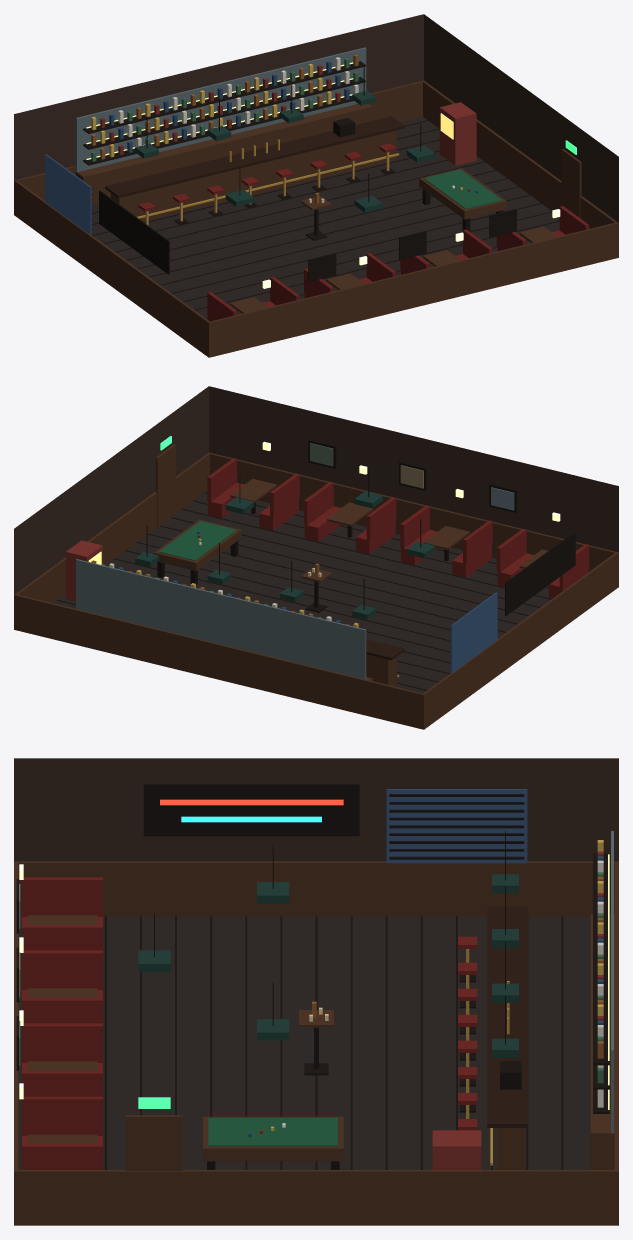
The model's file is set_bar.glb.
3 renders of one model, top to bottom at view 1: azimuth 30°, elevation 25°; view 2: azimuth 150°, elevation 25°; view 3: azimuth 270°, elevation 25°, orthographic. The views are drawn at different scales.
Visible parts, largest first — view 1: shell, wains.001, backpanel, wains.003, bar_front, backbar, wains.002, bar_top, neon_back, win, wains, juke (+20 smaller); view 2: shell, wains, backpanel, wains.003, wains.001, wains.002, neon_back, win, pool_felt, door, pool_body, juke (+22 smaller); view 3: shell, wains.002, wains.003, neon_back, win, bar_top, pool_felt, door, booth_back_a, booth_back_a.001, booth_back_a.002, booth_back_a.003 (+28 smaller).
Boxes of the visible parts, x1,y1,x2,y2 form: shell: (14,14,618,319); wains.001: (207,222,618,357); backpanel: (76,47,366,172); wains.003: (15,181,211,357); bar_front: (110,130,396,221); backbar: (75,104,372,204); wains.002: (423,81,618,258); bar_top: (105,116,404,198); neon_back: (99,190,169,274); win: (45,154,91,234); wains: (14,80,424,215); juke: (439,102,476,165); shell: (14,386,618,693); wains: (14,594,425,729); backpanel: (76,559,366,679); wains.003: (421,553,618,729); wains.001: (208,452,618,587); wains.002: (14,453,210,630); neon_back: (505,532,575,615); win: (450,592,497,672); pool_felt: (159,521,236,560); door: (155,444,175,527); pool_body: (154,519,241,570); juke: (66,540,102,601); shell: (14,758,618,1169); wains.002: (14,1170,618,1225); wains.003: (14,861,618,916); neon_back: (143,784,359,836); win: (386,789,527,863); bar_top: (487,907,527,1127); pool_felt: (208,1118,337,1146); door: (126,1115,182,1170); booth_back_a: (22,877,102,916); booth_back_a.001: (22,950,102,989); booth_back_a.002: (22,1023,102,1062); booth_back_a.003: (22,1096,102,1135).
Bounding box in the file's own units: 136 × 32 × 112.
